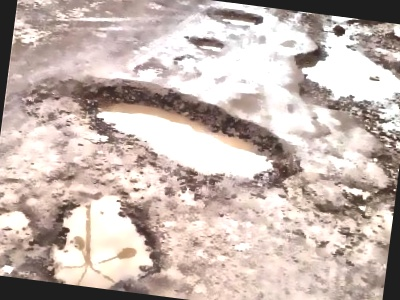pothole: (15, 64, 304, 202), (276, 11, 400, 185), (42, 182, 172, 295), (332, 179, 396, 217), (205, 4, 264, 31), (0, 204, 34, 233), (132, 60, 170, 81), (188, 35, 225, 53), (172, 52, 202, 74)
